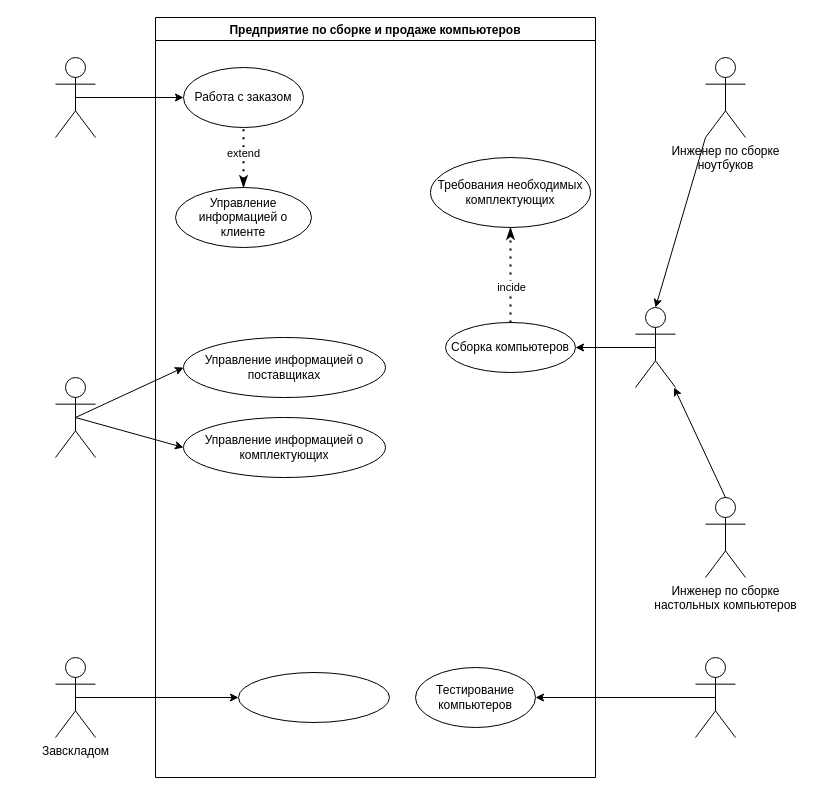
Image size: 814x795. Some labels were removed from this diagram. The centre of each missing label's shape, as x and y in pixels:
Инженер по сборке: point 655,347
Инженер по тестированию: point 715,697
Менеджер по работе с клиентами: point 75,97
Менеджер по снабжению: point 75,417
Учет поступления и выдачи комплектующих: point 314,697
